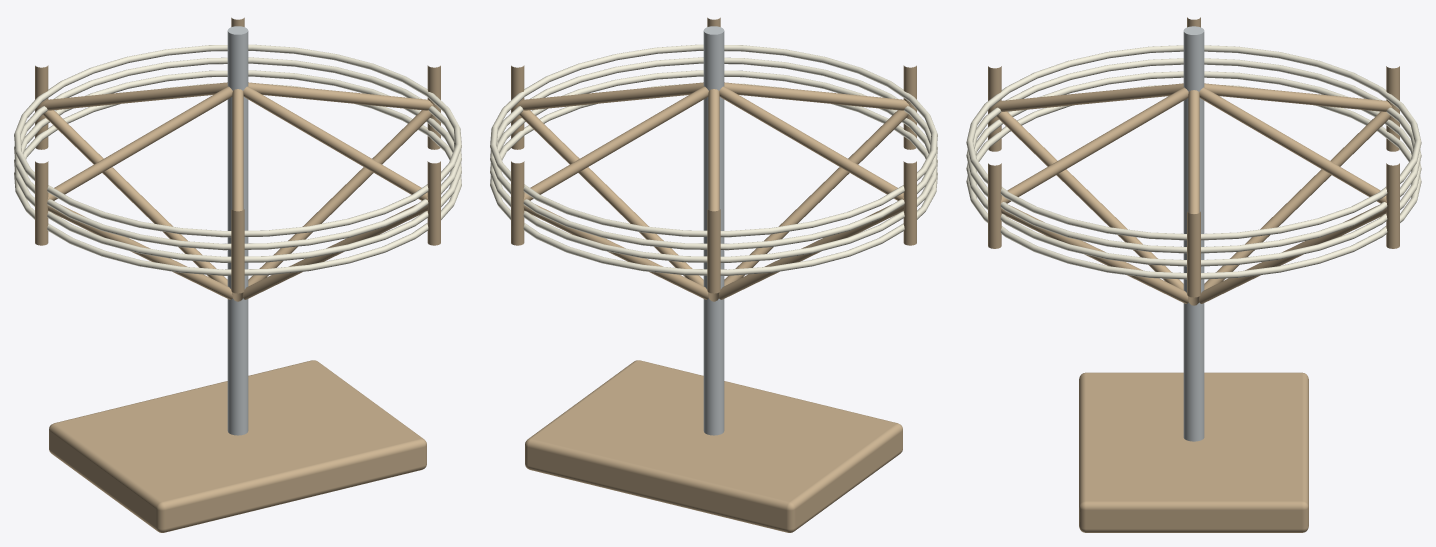
File: textile-weaving-and-dye-workshop-swift-4aa20c48__29542.glb
3 views of the same model, side by side, from view 1: azimuth 30°, elevation 25°; view 2: azimuth 150°, elevation 25°; view 3: azimuth 270°, elevation 25° (orthographic).
Parts seen in each view (by area): view 1: swift; view 2: swift; view 3: swift.
Boxes of the visible parts, x1,y1,x2,y2 form: swift: [14, 17, 461, 532]; swift: [490, 17, 937, 532]; swift: [966, 17, 1421, 532].
Bounding box in the file's own units: 0.824 × 0.84 × 0.792.
